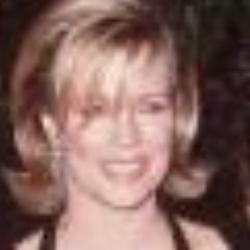face: (6, 2, 204, 221)
